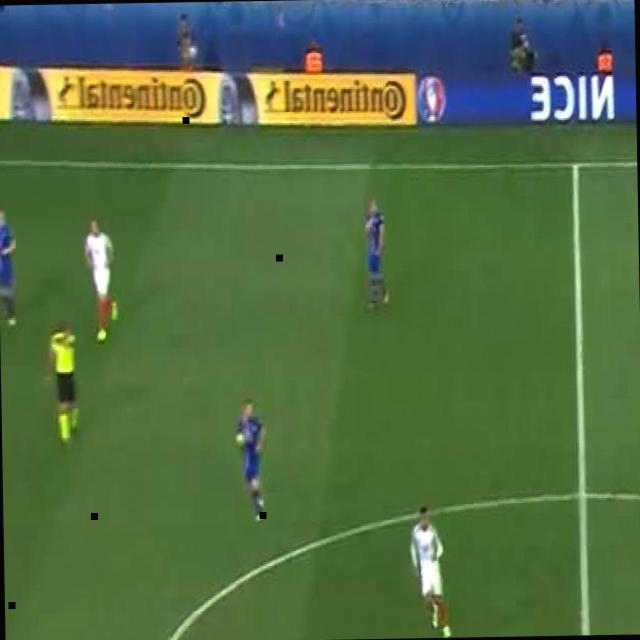player-white: (410, 504, 452, 638), (236, 394, 270, 526), (84, 222, 120, 344), (46, 326, 78, 446), (362, 198, 390, 312), (0, 208, 18, 329)
